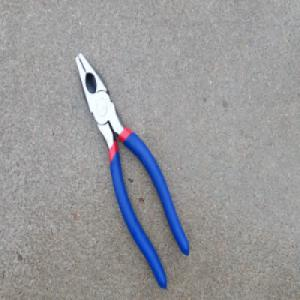Pliers: (73, 51, 191, 287)
